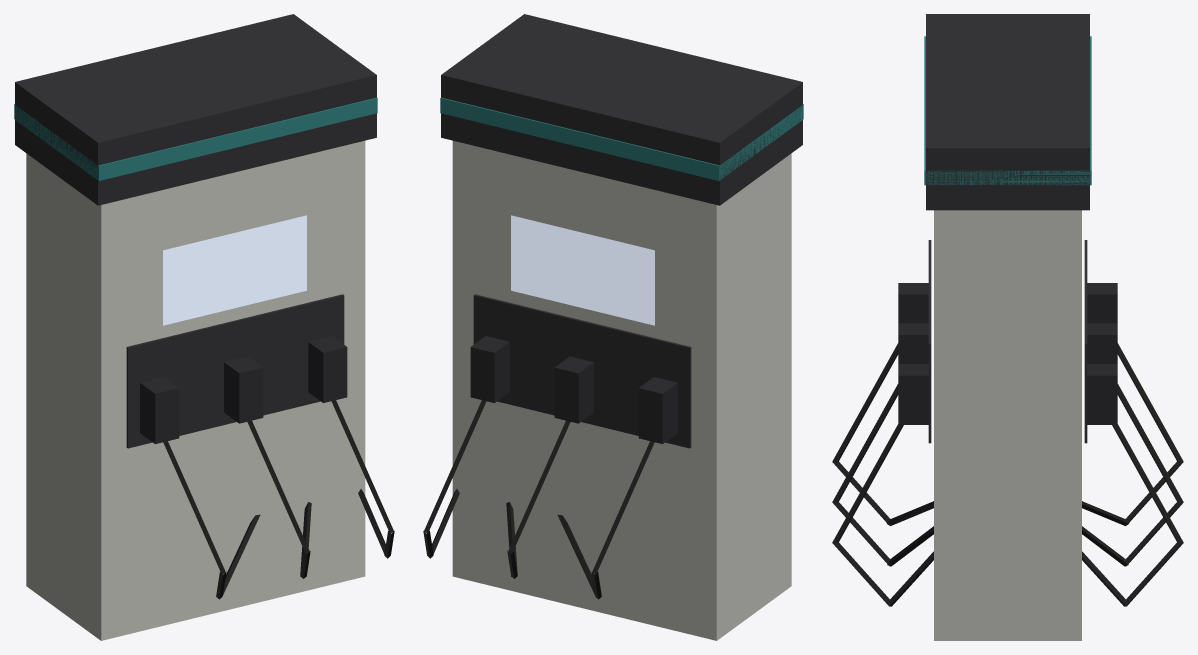
The model's file is town_pump 2.gltf.
3 views of the same model, side by side, from view 1: azimuth 30°, elevation 25°; view 2: azimuth 150°, elevation 25°; view 3: azimuth 270°, elevation 25° (orthographic).
Parts seen in each view (by area): view 1: TownPump_Pumps, TownPump_PumpPanels, TownPump_PumpScreens_Glow, TownPump_Nozzles, TownPump_Hoses; view 2: TownPump_Pumps, TownPump_PumpPanels, TownPump_PumpScreens_Glow, TownPump_Nozzles, TownPump_Hoses; view 3: TownPump_Pumps, TownPump_Hoses, TownPump_Nozzles, TownPump_PumpPanels.
Part boxes in pixels (left/top/right/bottom): TownPump_Pumps: left=14, top=14, right=377, bottom=640; TownPump_PumpPanels: left=126, top=294, right=344, bottom=448; TownPump_PumpScreens_Glow: left=163, top=215, right=306, bottom=325; TownPump_Nozzles: left=140, top=336, right=347, bottom=444; TownPump_Hoses: left=163, top=400, right=394, bottom=599; TownPump_Pumps: left=440, top=14, right=803, bottom=640; TownPump_PumpPanels: left=473, top=294, right=691, bottom=448; TownPump_PumpScreens_Glow: left=511, top=215, right=654, bottom=325; TownPump_Nozzles: left=470, top=336, right=677, bottom=444; TownPump_Hoses: left=423, top=400, right=654, bottom=599; TownPump_Pumps: left=924, top=14, right=1091, bottom=640; TownPump_Hoses: left=832, top=343, right=1183, bottom=606; TownPump_Nozzles: left=898, top=283, right=1117, bottom=424; TownPump_PumpPanels: left=928, top=240, right=1087, bottom=443.
Size of what is drawn, in the model's own units: 1.16 by 2 by 1.28.
Materials: 2 (2 with a texture image).
